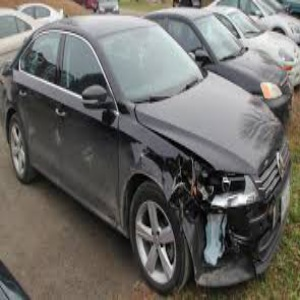bumper: (187, 198, 271, 284)
